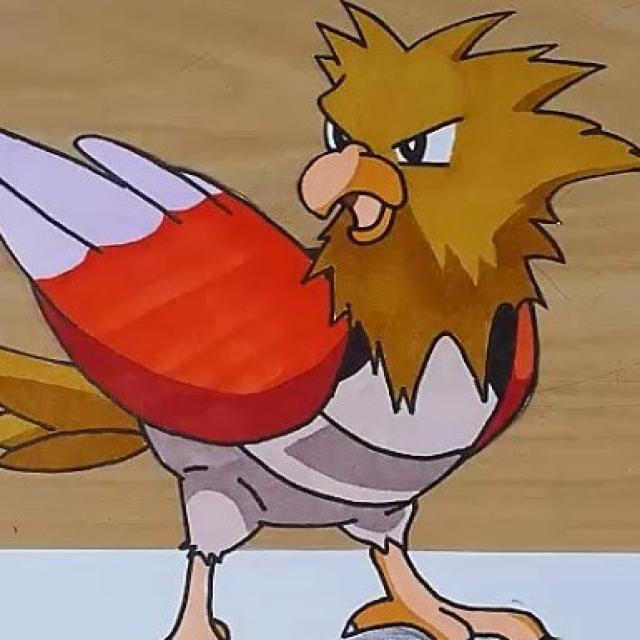Spearow: (126, 39, 565, 640)
